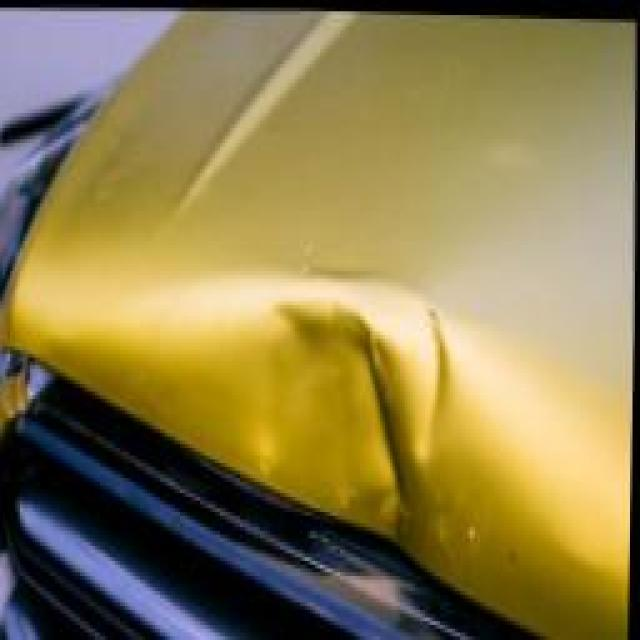Bonnet: (0, 0, 640, 574)
